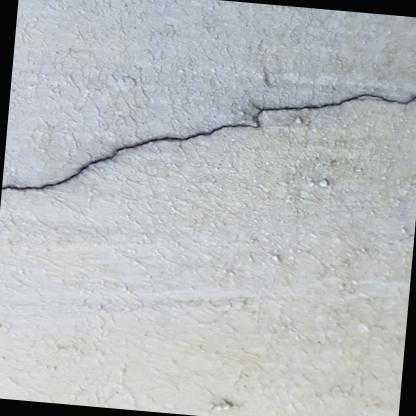crack: (1, 94, 416, 190)
